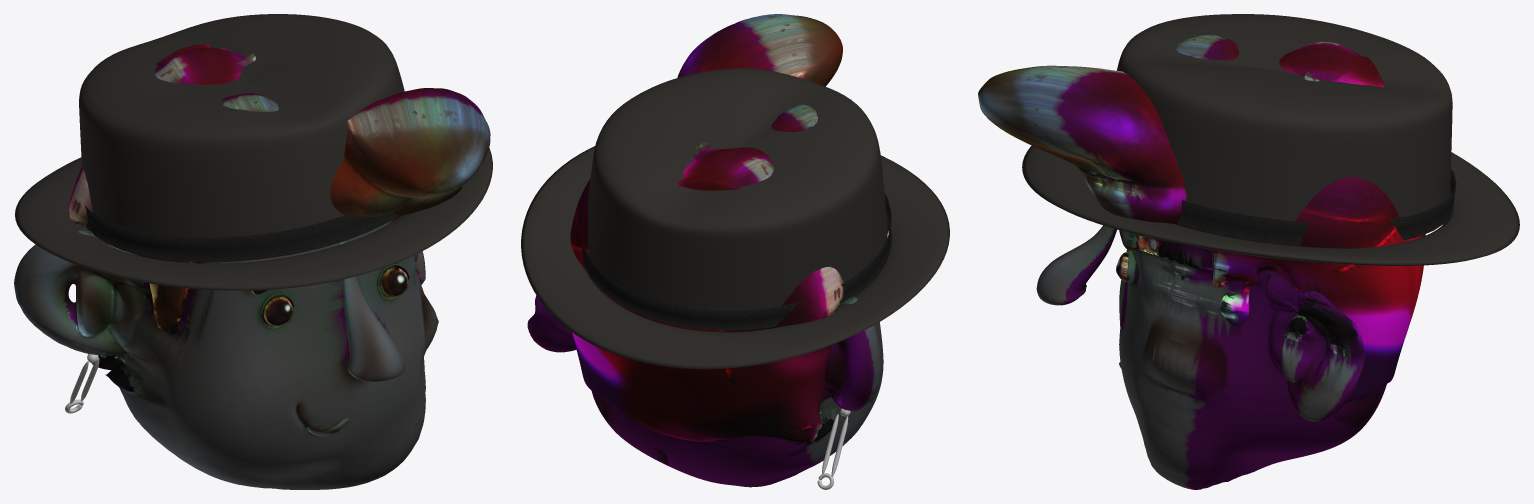
3 views of the same model, side by side, from view 1: azimuth 30°, elevation 25°; view 2: azimuth 150°, elevation 25°; view 3: azimuth 270°, elevation 25° (orthographic). The views are drawn at different scales.
Parts seen in each view (by area): view 1: Hat, Skin, Hair, HatBand, Pin, EyeL, EyeR; view 2: Hat, Hair, Skin, HatBand, Pin; view 3: Hat, Skin, Hair, HatBand.
Part boxes in pixels (x1,y1,x2,y2): Hat: (15, 14, 492, 290); Skin: (14, 220, 438, 489); Hair: (68, 44, 490, 370); HatBand: (84, 205, 398, 262); Pin: (65, 354, 99, 413); EyeL: (264, 297, 292, 326); EyeR: (381, 267, 407, 297); Hat: (521, 68, 949, 369); Hair: (570, 14, 858, 442); Skin: (527, 291, 883, 487); HatBand: (581, 192, 891, 330); Pin: (817, 408, 850, 489); Hat: (1022, 14, 1519, 265); Skin: (1036, 225, 1386, 489); Hair: (978, 35, 1425, 401); HatBand: (1177, 169, 1456, 246).
Bounding box in the file's own units: 2.83 × 2.86 × 3.31.
Materials: 11 (7 with a texture image).
